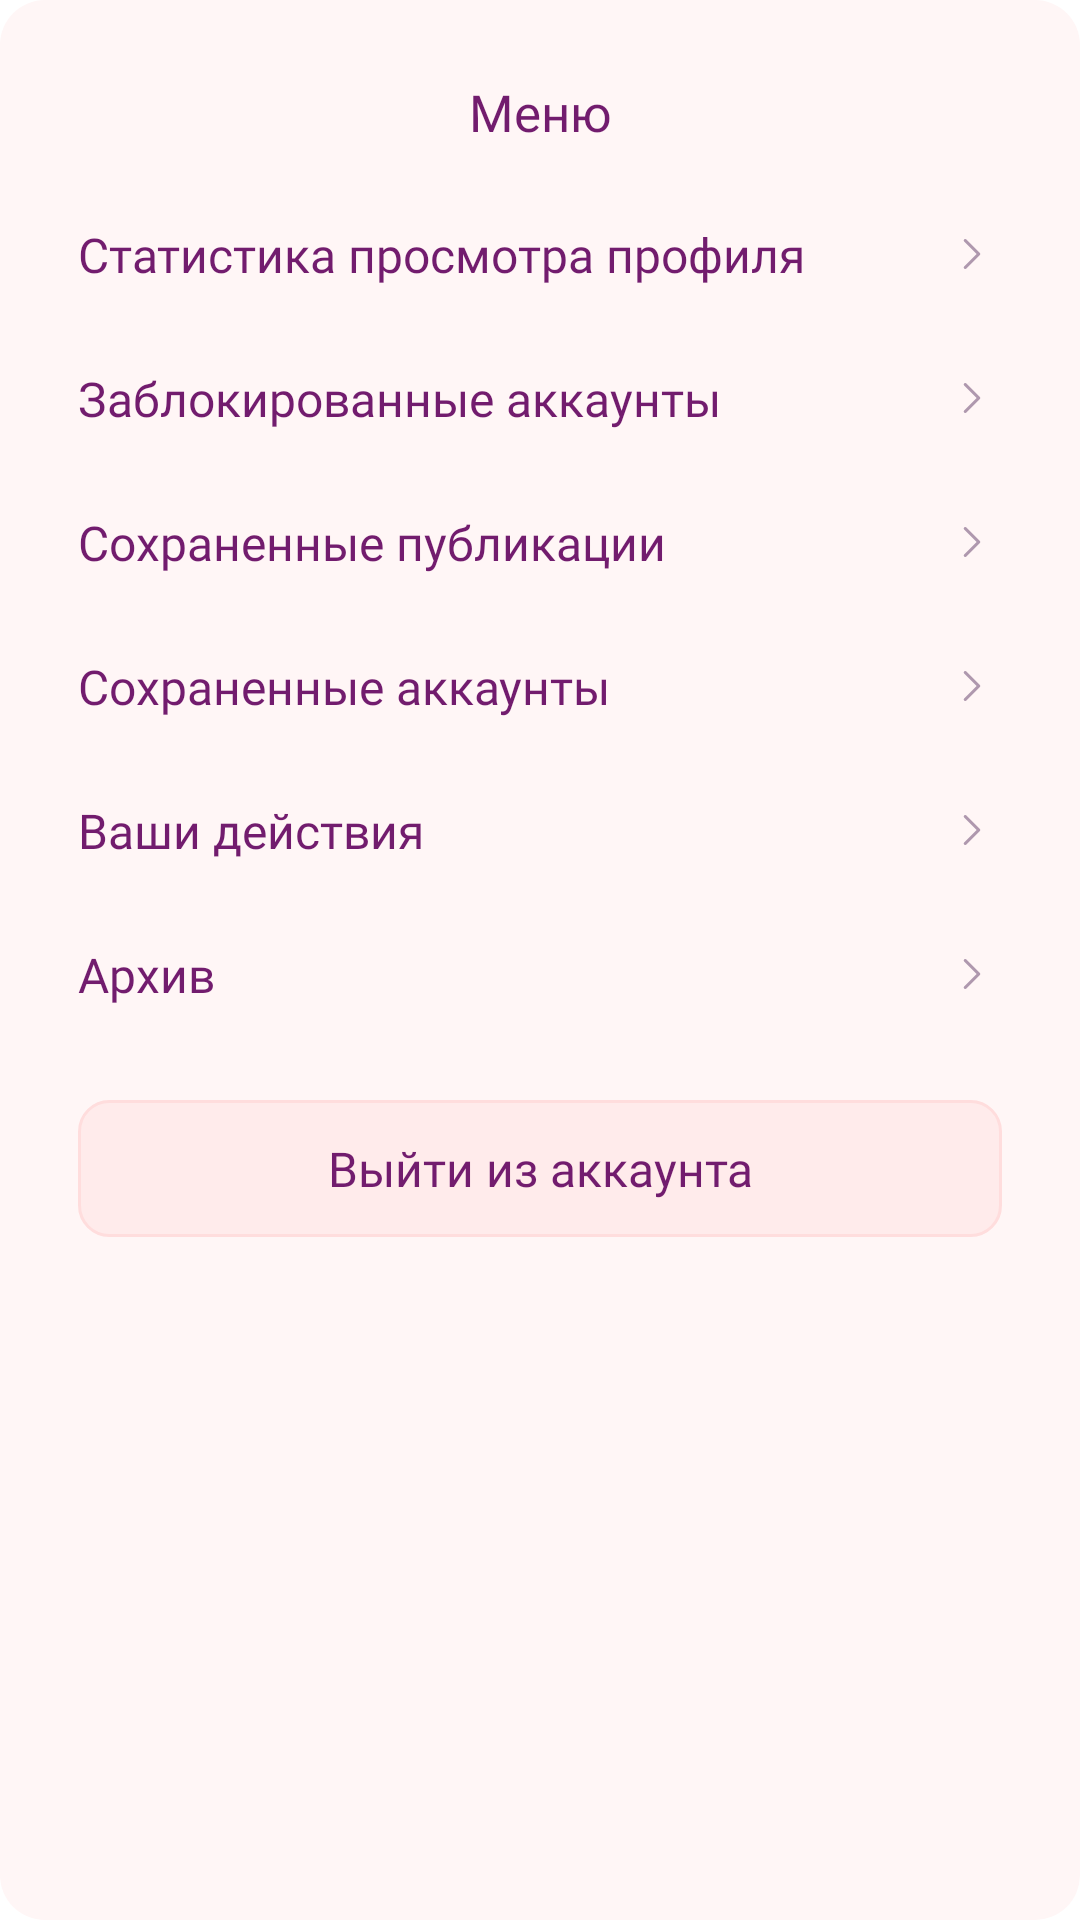

Where icons sit on this 1080 x 1920 app screen, as {"left": x1, "top": y1, "right": x2, "bottom": y2}:
next search people: {"left": 964, "top": 239, "right": 980, "bottom": 269}, {"left": 964, "top": 383, "right": 980, "bottom": 413}, {"left": 964, "top": 527, "right": 980, "bottom": 557}, {"left": 964, "top": 671, "right": 980, "bottom": 701}, {"left": 964, "top": 815, "right": 980, "bottom": 845}, {"left": 964, "top": 959, "right": 980, "bottom": 989}
